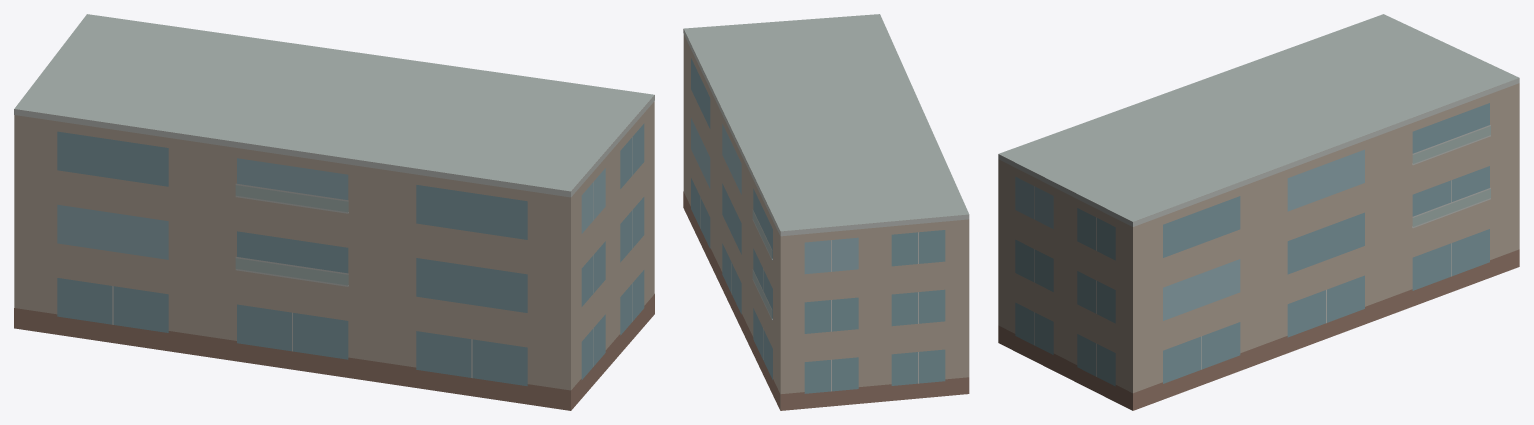
Rendered from survey-upis-32535304.glb.
3 renders of one model, left to right at view 1: azimuth 30°, elevation 25°; view 2: azimuth 150°, elevation 25°; view 3: azimuth 270°, elevation 25°, orthographic. The views are drawn at different scales.
Parts seen in each view (by area): view 1: survey-upis-32535304.tmp; view 2: survey-upis-32535304.tmp; view 3: survey-upis-32535304.tmp.
Part boxes in pixels (<box>): survey-upis-32535304.tmp: <box>14,14,654,410</box>; survey-upis-32535304.tmp: <box>683,14,969,410</box>; survey-upis-32535304.tmp: <box>998,14,1519,410</box>.
Size of the model in its own units: 21.02 by 8.9 by 22.27.
